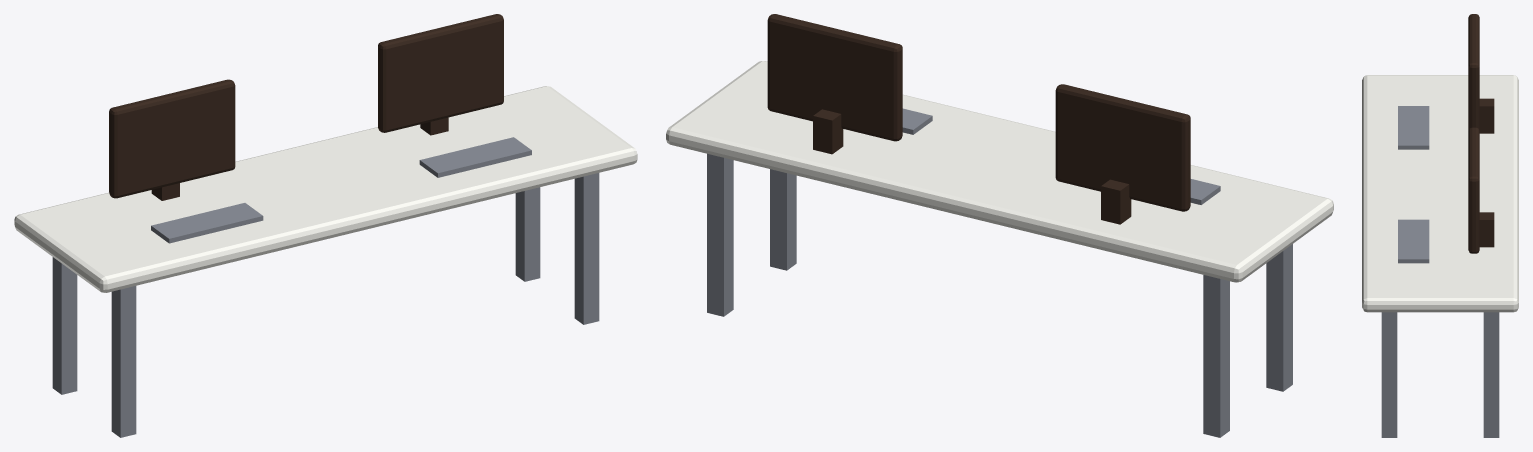
Rendered from int_mejaPC.fbx.
3 renders of one model, left to right at view 1: azimuth 30°, elevation 25°; view 2: azimuth 150°, elevation 25°; view 3: azimuth 270°, elevation 25°, orthographic. The views are drawn at different scales.
Parts seen in each view (by area): view 1: int_mejaPC; view 2: int_mejaPC; view 3: int_mejaPC.
Part boxes in pixels (left/top/right/bottom): int_mejaPC: left=14, top=14, right=637, bottom=437; int_mejaPC: left=666, top=14, right=1333, bottom=437; int_mejaPC: left=1362, top=14, right=1518, bottom=437.
Bounding box in the file's own units: 240 × 119 × 70.
1 material, 1 textured.
